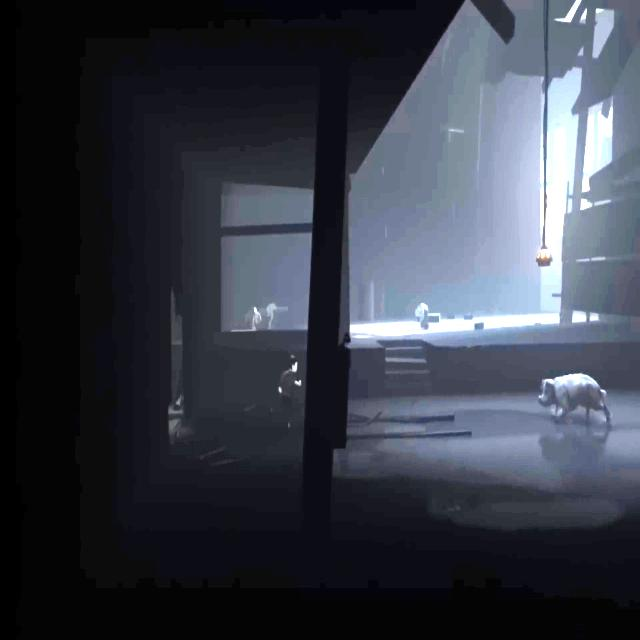boy: (270, 355, 302, 432)
interactible: (536, 248, 553, 266)
zombie: (415, 303, 429, 331), (267, 303, 278, 330), (252, 308, 262, 330)
